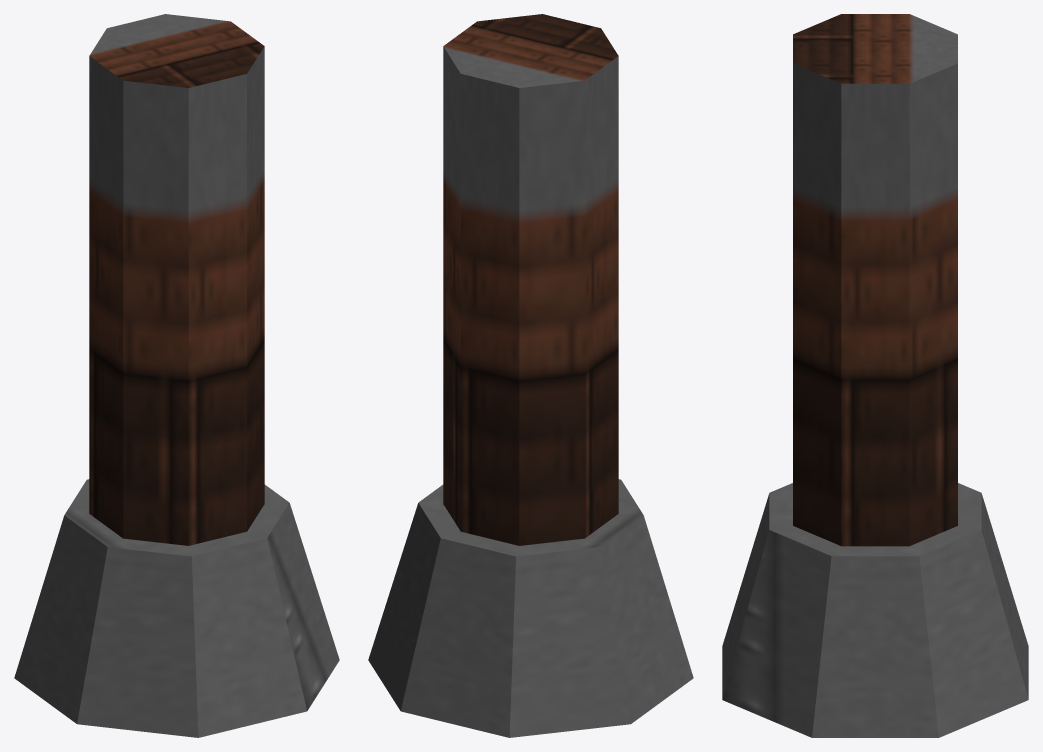
Rendered from ammo_assembler_powder.obj.
The picture shows the model from 3 angles, left to right: view 1: azimuth 30°, elevation 25°; view 2: azimuth 150°, elevation 25°; view 3: azimuth 270°, elevation 25°; orthographic projection.
Visible parts, largest first — view 1: drop_tube, expander_tip; view 2: drop_tube, expander_tip; view 3: drop_tube, expander_tip.
Part boxes in pixels (bbox=[...]): drop_tube: bbox=[89, 14, 264, 545]; expander_tip: bbox=[14, 479, 339, 737]; drop_tube: bbox=[443, 14, 618, 545]; expander_tip: bbox=[368, 479, 693, 737]; drop_tube: bbox=[793, 14, 957, 546]; expander_tip: bbox=[722, 483, 1028, 737].
Bounding box in the file's own units: 0.1201 × 0.27 × 0.1201.
